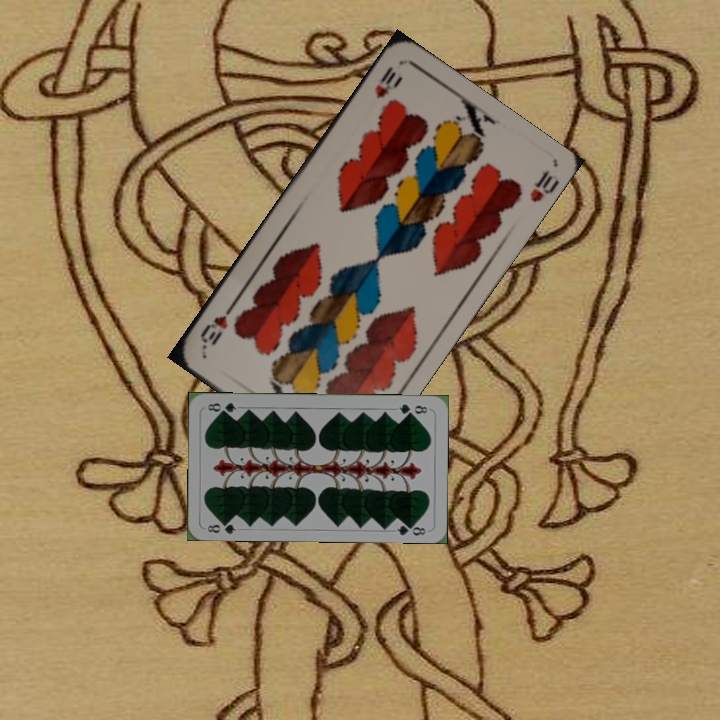G8: (203, 516, 238, 536), (395, 400, 432, 418)
H10: (370, 62, 405, 101)
